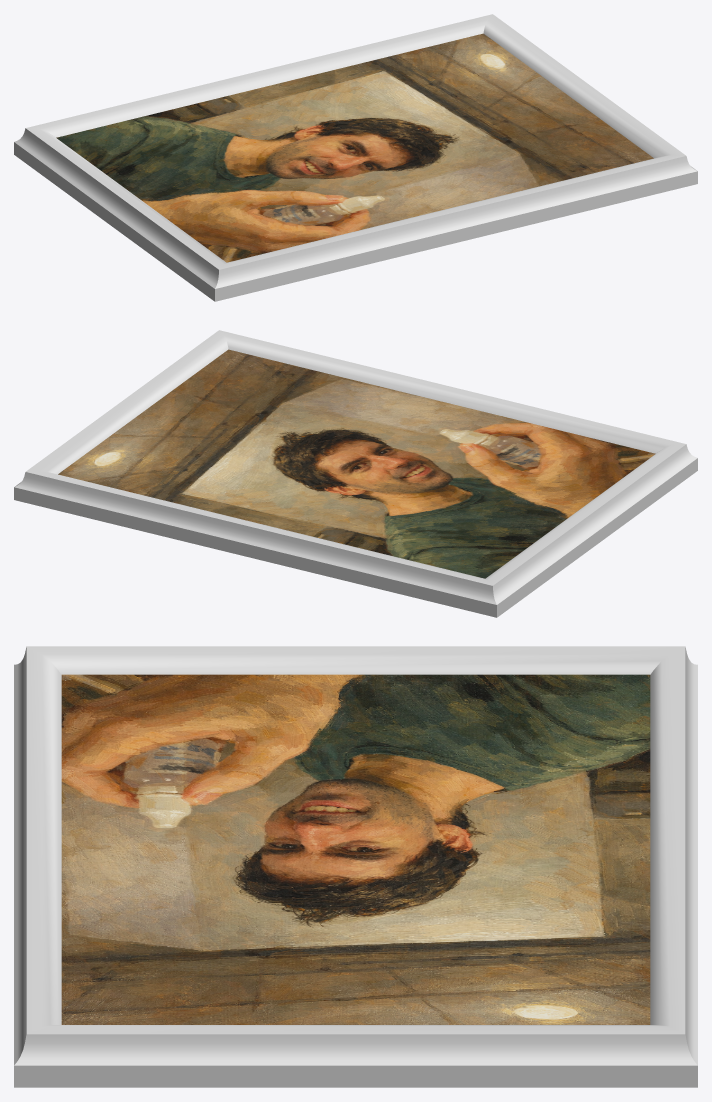
The model's file is Cuadro.fbx.
3 views of the same model, one above another, from view 1: azimuth 30°, elevation 25°; view 2: azimuth 150°, elevation 25°; view 3: azimuth 270°, elevation 25° (orthographic). The views are drawn at different scales.
Parts seen in each view (by area): view 1: Plane; view 2: Plane; view 3: Plane.
Boxes of the visible parts, left/top/right/bottom form: Plane: left=14, top=14, right=697, bottom=301; Plane: left=14, top=330, right=697, bottom=617; Plane: left=14, top=646, right=697, bottom=1087.
Bounding box in the file's own units: 120 × 6.5 × 86.51.
Materials: 2 (1 with a texture image).
